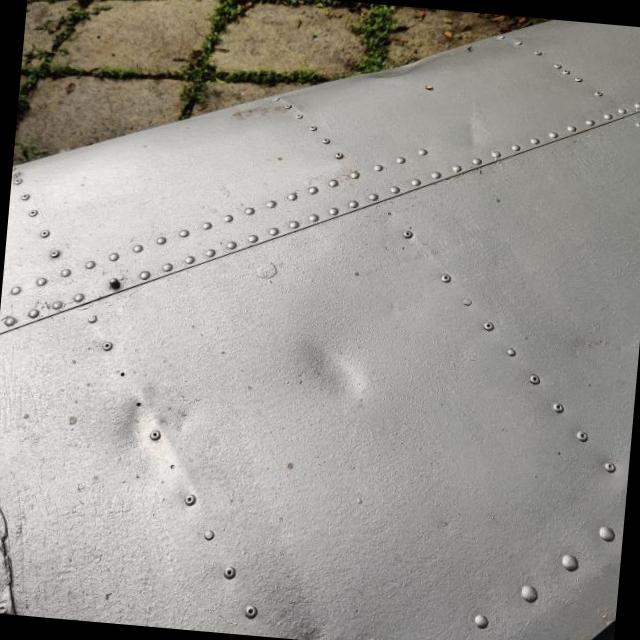Dent: (266, 292, 409, 426), (84, 369, 200, 504)
